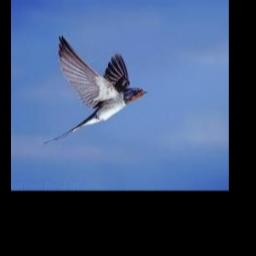Swallow: (43, 35, 146, 144)
